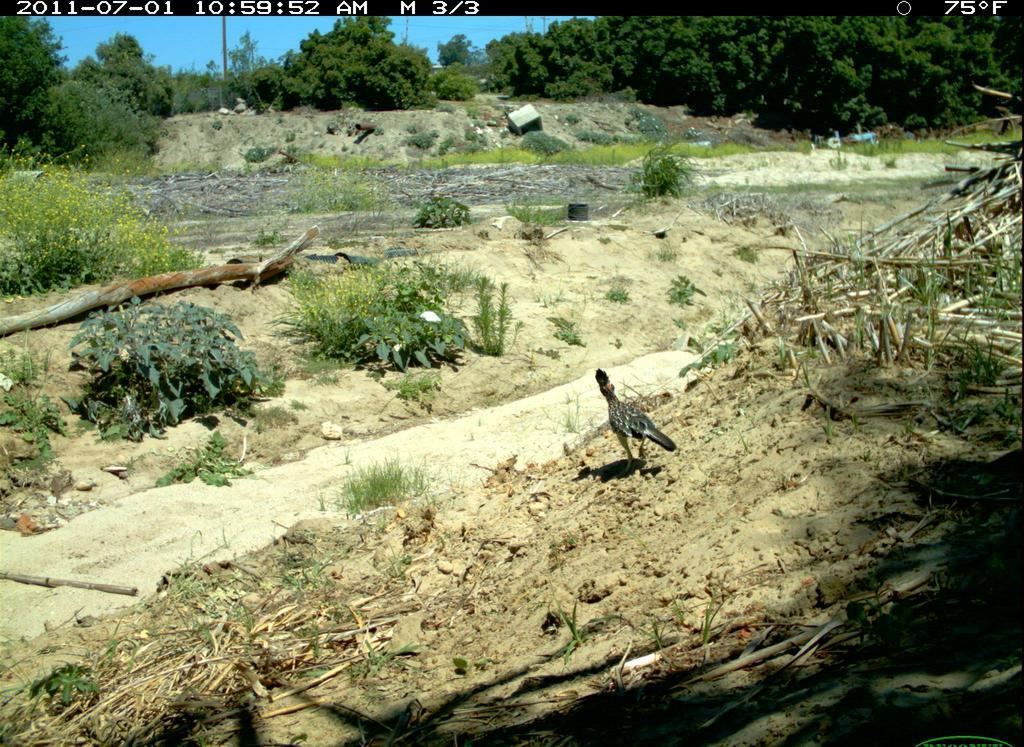bird: (579, 372, 678, 479)
